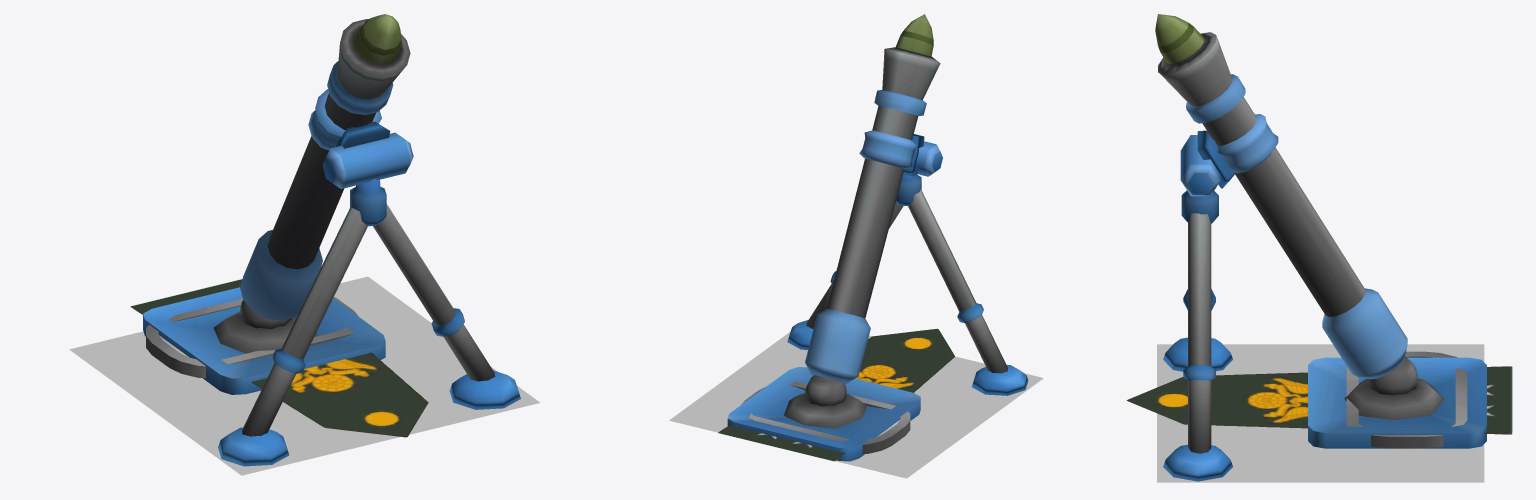
File: MortarBuilding.fbx
3 views of the same model, side by side, from view 1: azimuth 30°, elevation 25°; view 2: azimuth 150°, elevation 25°; view 3: azimuth 270°, elevation 25° (orthographic). The views are drawn at different scales.
Parts seen in each view (by area): view 1: Howitzer_Body, AreaProgress, Ranks, Tag, Mortar_Shell; view 2: Howitzer_Body, AreaProgress, Ranks, Tag, Mortar_Shell; view 3: Howitzer_Body, AreaProgress, Ranks, Tag, Mortar_Shell.
Boxes of the visible parts, x1,y1,x2,y2 form: Howitzer_Body: [143, 19, 520, 466]; AreaProgress: [69, 276, 540, 475]; Ranks: [130, 279, 428, 437]; Tag: [146, 297, 358, 378]; Mortar_Shell: [352, 14, 401, 64]; Howitzer_Body: [727, 47, 1028, 461]; AreaProgress: [669, 320, 1043, 478]; Ranks: [718, 328, 954, 461]; Tag: [741, 381, 910, 453]; Mortar_Shell: [896, 14, 933, 56]; Howitzer_Body: [1158, 32, 1486, 481]; AreaProgress: [1157, 344, 1484, 482]; Ranks: [1126, 366, 1512, 434]; Tag: [1346, 351, 1467, 448]; Mortar_Shell: [1155, 14, 1204, 63].
Bounding box in the file's own units: 2.47 × 2.73 × 2.47.
3 materials, 2 textured.
